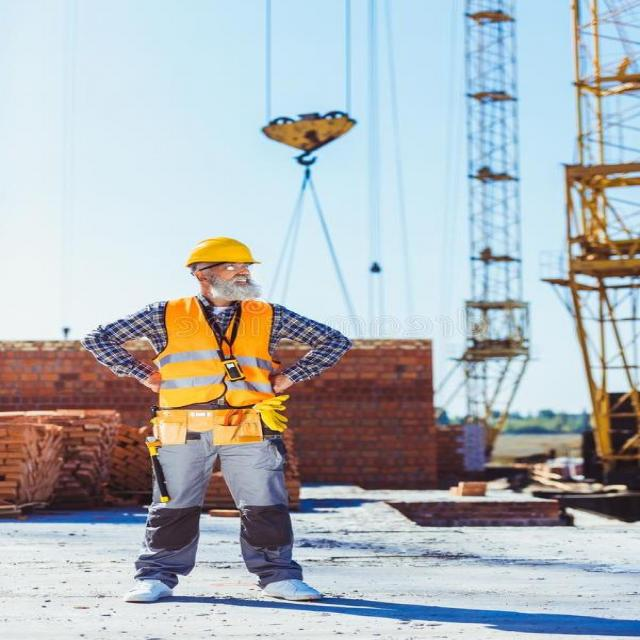Reflective-Jacket: (149, 296, 290, 424)
Safety-Helmet: (179, 233, 263, 268)
